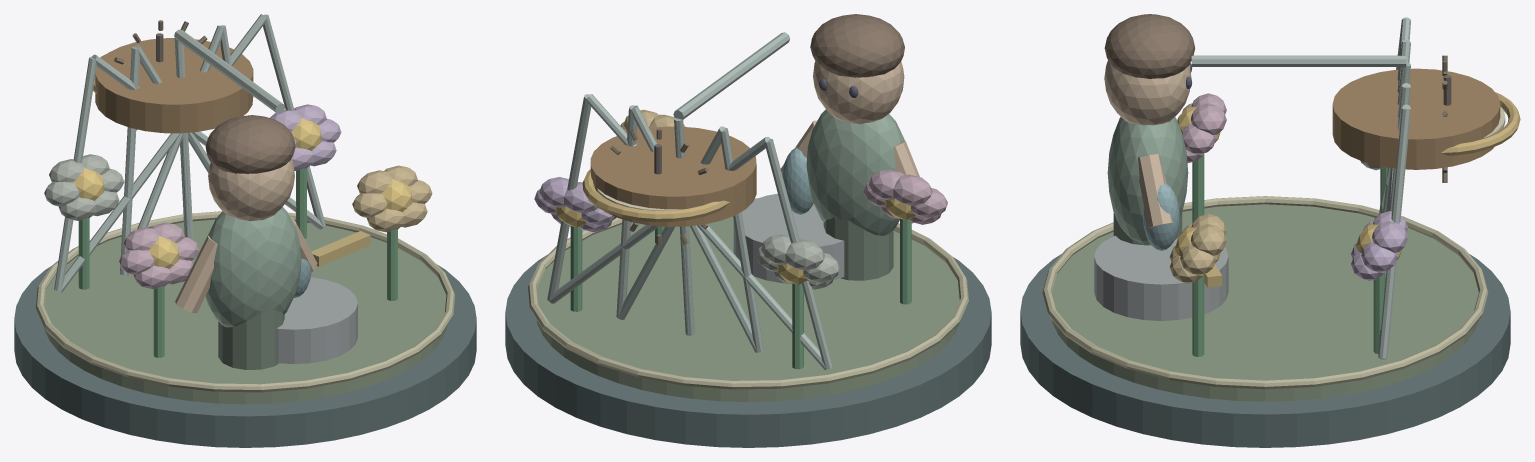
The model's file is the-clockmakers-garden-scene-1.glb.
The picture shows the model from 3 angles, left to right: view 1: azimuth 30°, elevation 25°; view 2: azimuth 150°, elevation 25°; view 3: azimuth 270°, elevation 25°; orthographic projection. The views are drawn at different scales.
Visible parts, largest first — view 1: shore or habitat, deep water plinth, stopped greenhouse clock body, Ivo coat, outer waterline, silent fountain basin, Ivo hair, Ivo face, Ivo trousers, greenhouse arch right 0.48, greenhouse arch left -0.48, Ivo arm left (+29 smaller); view 2: shore or habitat, deep water plinth, stopped greenhouse clock body, Ivo coat, outer waterline, Ivo hair, silent fountain basin, Ivo face, Ivo trousers, greenhouse arch right 0.48, stopped greenhouse clock rim, greenhouse arch left -0.48 (+22 smaller); view 3: shore or habitat, deep water plinth, stopped greenhouse clock body, outer waterline, silent fountain basin, Ivo coat, Ivo hair, Ivo face, greenhouse ridge, greenhouse arch left 0.48, Ivo arm right, cold fountain drop (+10 smaller).
Boxes of the visible parts, x1=… form: shore or habitat: x1=44, y1=219, x2=446, y2=404; deep water plinth: x1=14, y1=264, x2=476, y2=447; stopped greenhouse clock body: x1=95, y1=38, x2=253, y2=133; Ivo coat: x1=205, y1=207, x2=301, y2=327; outer waterline: x1=36, y1=211, x2=454, y2=392; silent fountain basin: x1=276, y1=277, x2=357, y2=364; Ivo hair: x1=205, y1=115, x2=295, y2=173; Ivo face: x1=208, y1=158, x2=294, y2=221; Ivo trousers: x1=218, y1=309, x2=284, y2=369; greenhouse arch right 0.48: x1=60, y1=14, x2=266, y2=292; greenhouse arch left -0.48: x1=54, y1=57, x2=96, y2=291; Ivo arm left: x1=175, y1=235, x2=217, y2=313; shore or habitat: x1=536, y1=216, x2=960, y2=401; deep water plinth: x1=505, y1=254, x2=991, y2=447; stopped greenhouse clock body: x1=590, y1=126, x2=756, y2=226; Ivo coat: x1=806, y1=109, x2=904, y2=235; outer waterline: x1=528, y1=198, x2=968, y2=389; Ivo hair: x1=810, y1=14, x2=904, y2=77; silent fountain basin: x1=733, y1=193, x2=844, y2=283; Ivo face: x1=813, y1=61, x2=904, y2=124; Ivo trousers: x1=823, y1=217, x2=893, y2=280; greenhouse arch right 0.48: x1=586, y1=94, x2=826, y2=370; stopped greenhouse clock rim: x1=582, y1=169, x2=729, y2=221; greenhouse arch left -0.48: x1=765, y1=139, x2=832, y2=369; shore or habitat: x1=1052, y1=204, x2=1478, y2=401; deep water plinth: x1=1020, y1=254, x2=1510, y2=447; stopped greenhouse clock body: x1=1332, y1=68, x2=1500, y2=169; outer waterline: x1=1042, y1=196, x2=1488, y2=389; silent fountain basin: x1=1094, y1=229, x2=1228, y2=320; Ivo coat: x1=1107, y1=117, x2=1188, y2=244; Ivo hair: x1=1104, y1=14, x2=1195, y2=78; Ivo face: x1=1104, y1=60, x2=1191, y2=125; greenhouse ridge: x1=1191, y1=55, x2=1406, y2=66; greenhouse arch left 0.48: x1=1378, y1=108, x2=1410, y2=358; Ivo arm right: x1=1138, y1=154, x2=1173, y2=227; cold fountain drop: x1=1143, y1=183, x2=1179, y2=250.
Bounding box in the file's own units: 0.7592 × 0.5096 × 0.7748.
